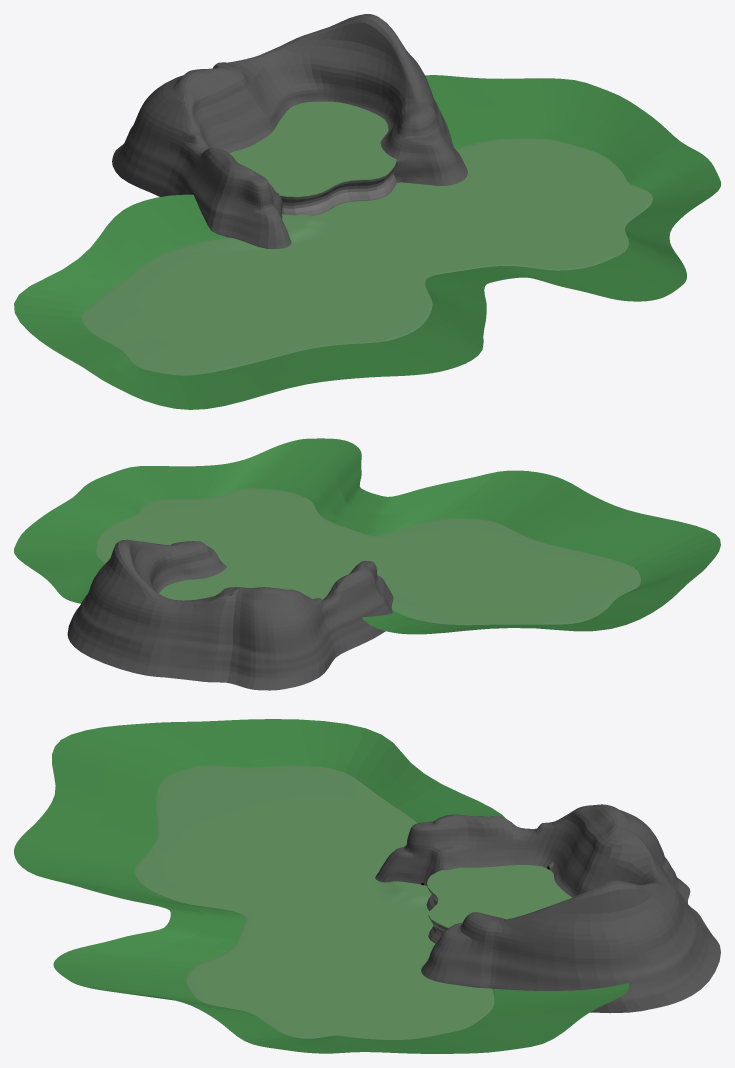
Rendered from NewEnvironment.fbx.
3 views of the same model, one above another, from view 1: azimuth 30°, elevation 25°; view 2: azimuth 150°, elevation 25°; view 3: azimuth 270°, elevation 25° (orthographic). The views are drawn at different scales.
Visible parts, largest first — view 1: Plane.021, Plane.022, MountainBorder, TopLevel, Cliff.001; view 2: Plane.022, Plane.021, MountainBorder, TopLevel; view 3: Plane.021, Plane.022, MountainBorder, TopLevel.
Part boxes in pixels (left/top/right/bottom): Plane.021: left=82, top=138, right=652, bottom=375; Plane.022: left=14, top=75, right=720, bottom=409; MountainBorder: left=112, top=14, right=467, bottom=248; TopLevel: left=229, top=101, right=396, bottom=197; Cliff.001: left=281, top=164, right=396, bottom=215; Plane.022: left=14, top=438, right=720, bottom=634; Plane.021: left=96, top=488, right=640, bottom=625; MountainBorder: left=67, top=539, right=393, bottom=690; TopLevel: left=159, top=563, right=332, bottom=600; Plane.021: left=135, top=765, right=494, bottom=1039; Plane.022: left=14, top=719, right=628, bottom=1053; MountainBorder: left=375, top=804, right=720, bottom=1013; TopLevel: left=426, top=865, right=571, bottom=928.
Size of the model in its own units: 210241 by 30487 by 187550.
